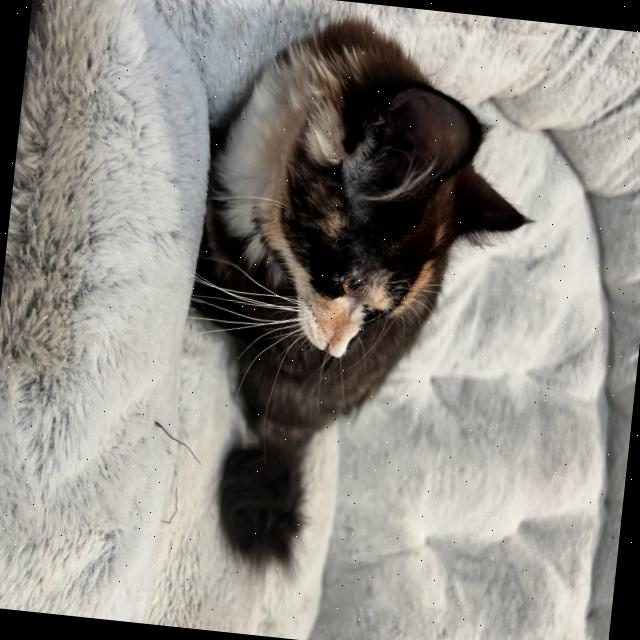calico_cat: (241, 43, 553, 386)
